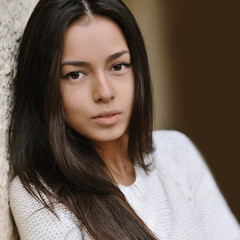teen: (34, 3, 149, 158)
